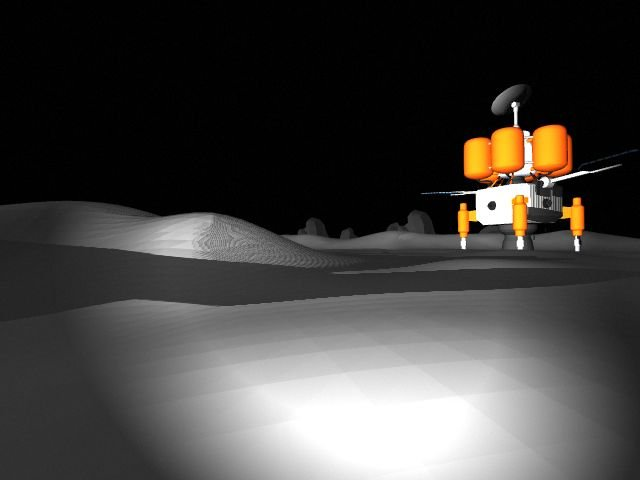homebase: (404, 81, 634, 257)
